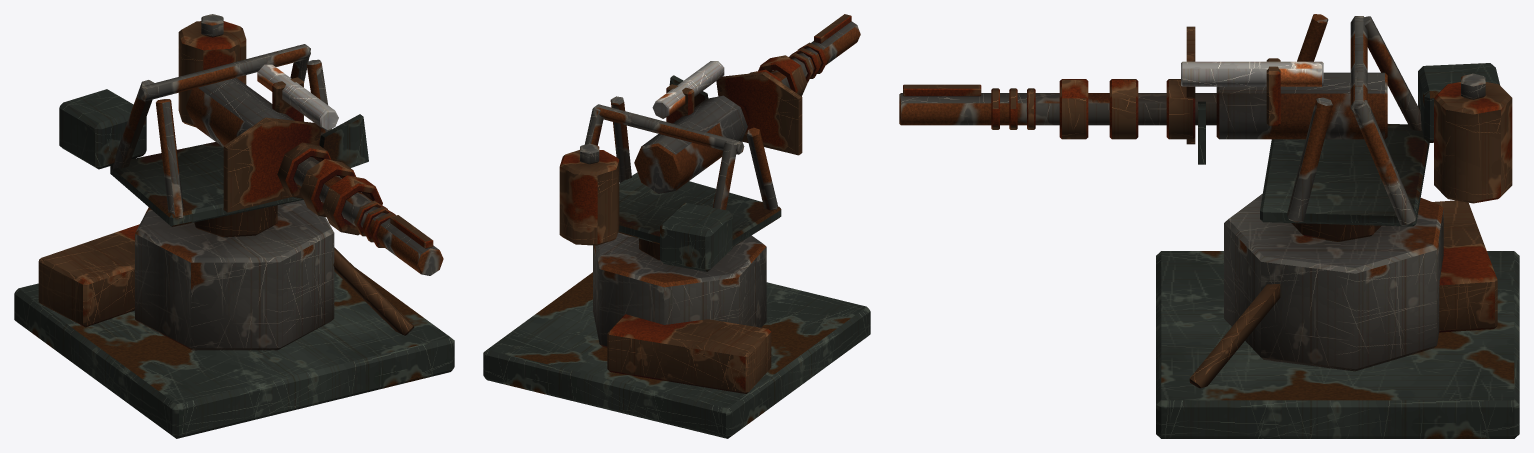
The model's file is R4W_Basic_LOD1.glb.
3 views of the same model, side by side, from view 1: azimuth 30°, elevation 25°; view 2: azimuth 150°, elevation 25°; view 3: azimuth 270°, elevation 25° (orthographic). The views are drawn at different scales.
Visible parts, largest first — view 1: R4W_Basic_LOD1; view 2: R4W_Basic_LOD1; view 3: R4W_Basic_LOD1.
Part boxes in pixels (x1=…): R4W_Basic_LOD1: x1=14, y1=14, x2=454, y2=438; R4W_Basic_LOD1: x1=483, y1=14, x2=870, y2=438; R4W_Basic_LOD1: x1=899, y1=14, x2=1519, y2=438.
Size of the model in its own units: 0.51 by 0.492 by 0.87.
Materials: 4 (4 with a texture image).
